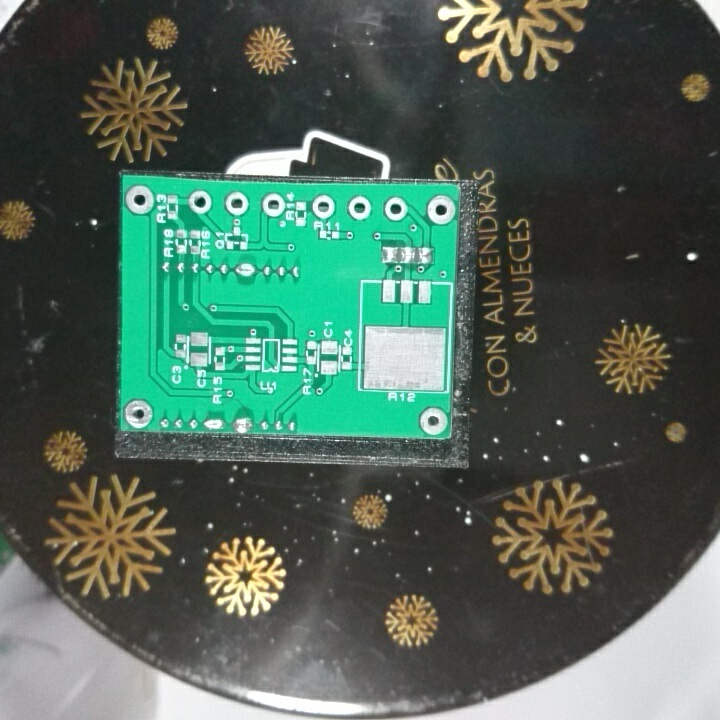F: (124, 182, 156, 216), (425, 192, 456, 226), (417, 403, 448, 435), (124, 399, 154, 429), (381, 194, 410, 223), (346, 194, 373, 225), (311, 193, 337, 222), (187, 188, 213, 217), (224, 189, 248, 218), (261, 191, 285, 217)
P: (233, 259, 258, 280), (201, 415, 226, 432), (231, 415, 254, 433)
